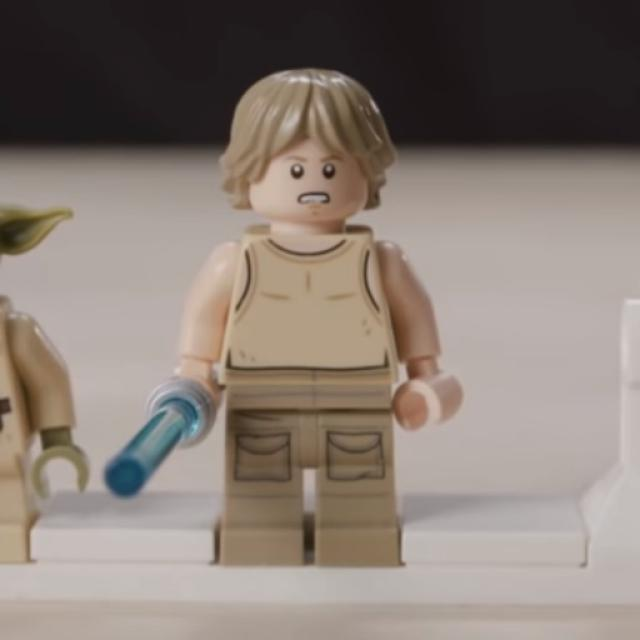Lego-Minifigures: (122, 52, 486, 586)
